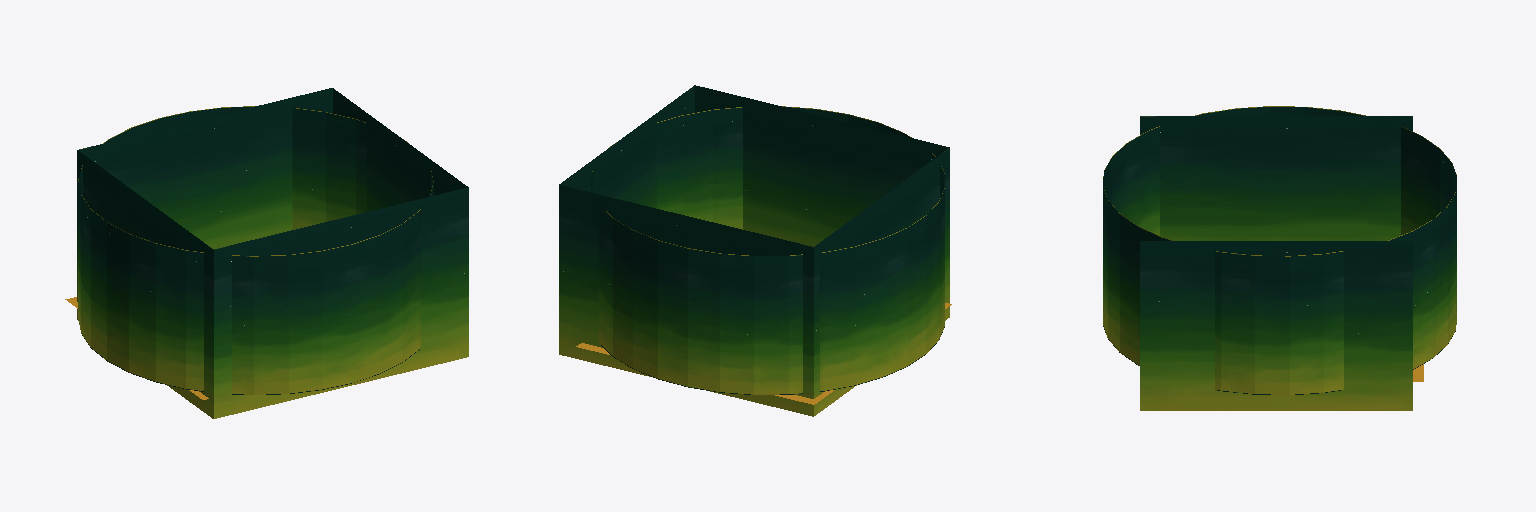
3 views of the same model, side by side, from view 1: azimuth 30°, elevation 25°; view 2: azimuth 150°, elevation 25°; view 3: azimuth 270°, elevation 25° (orthographic).
Parts seen in each view (by area): view 1: Sky2_Cube.037, Sky_Cube.020; view 2: Sky2_Cube.037, Sky_Cube.020; view 3: Sky_Cube.020, Sky2_Cube.037.
Part boxes in pixels (left/top/right/bottom): Sky2_Cube.037: left=78, top=106, right=433, bottom=394; Sky_Cube.020: left=77, top=88, right=468, bottom=418; Sky2_Cube.037: left=591, top=106, right=944, bottom=394; Sky_Cube.020: left=559, top=85, right=949, bottom=416; Sky_Cube.020: left=1140, top=116, right=1412, bottom=410; Sky2_Cube.037: left=1103, top=106, right=1456, bottom=394.
Size of the model in its own units: 125 by 66.25 by 125.
Materials: 12 (7 with a texture image).